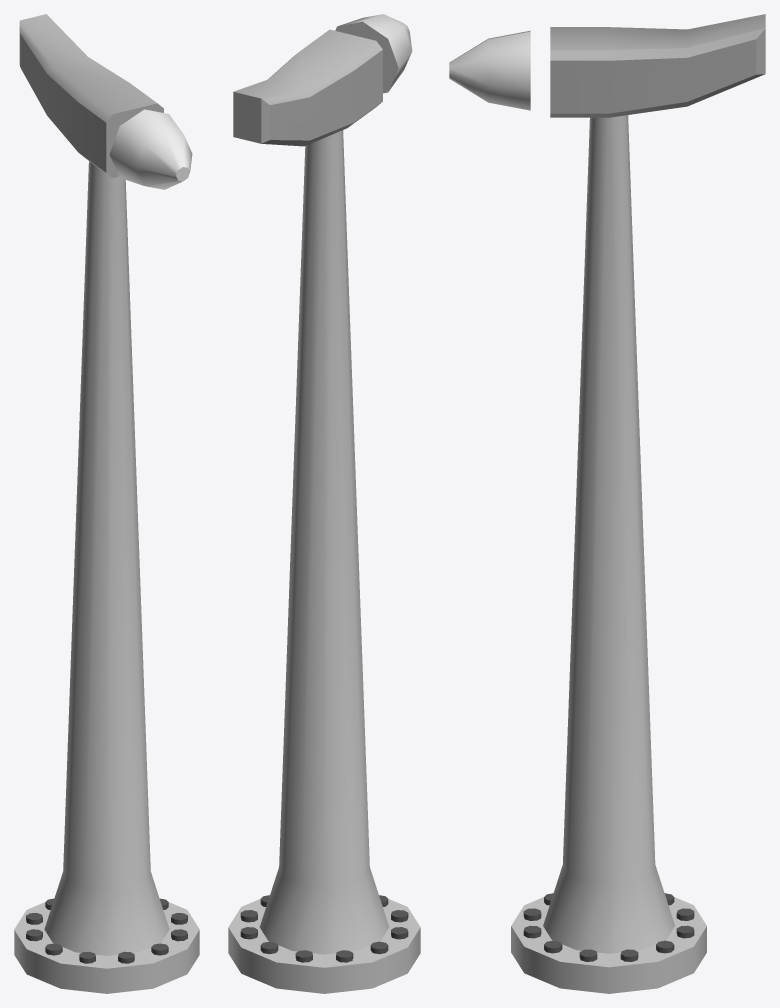
File: SM_Buildings_Factory_06.fbx
3 views of the same model, side by side, from view 1: azimuth 30°, elevation 25°; view 2: azimuth 150°, elevation 25°; view 3: azimuth 270°, elevation 25° (orthographic). The views are drawn at different scales.
Parts seen in each view (by area): view 1: SM_Buildings_Factory_06; view 2: SM_Buildings_Factory_06; view 3: SM_Buildings_Factory_06.
Part boxes in pixels (x1,y1,x2,y2): SM_Buildings_Factory_06: [14, 14, 199, 993]; SM_Buildings_Factory_06: [228, 14, 420, 993]; SM_Buildings_Factory_06: [449, 14, 765, 993].
Size of the model in its own units: 2 by 10.5 by 3.23.
